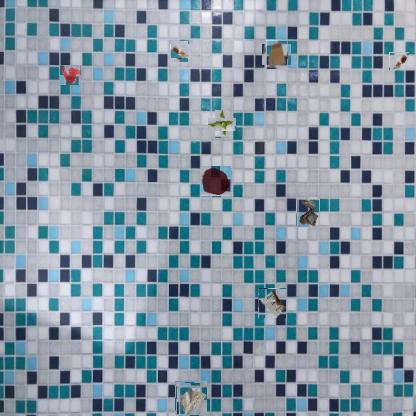dirty: (176, 382, 207, 416), (258, 288, 286, 318), (296, 198, 320, 228), (264, 42, 289, 67), (212, 113, 232, 135), (389, 52, 409, 70), (172, 43, 190, 60)
liquid: (201, 166, 231, 196), (60, 64, 80, 86)
